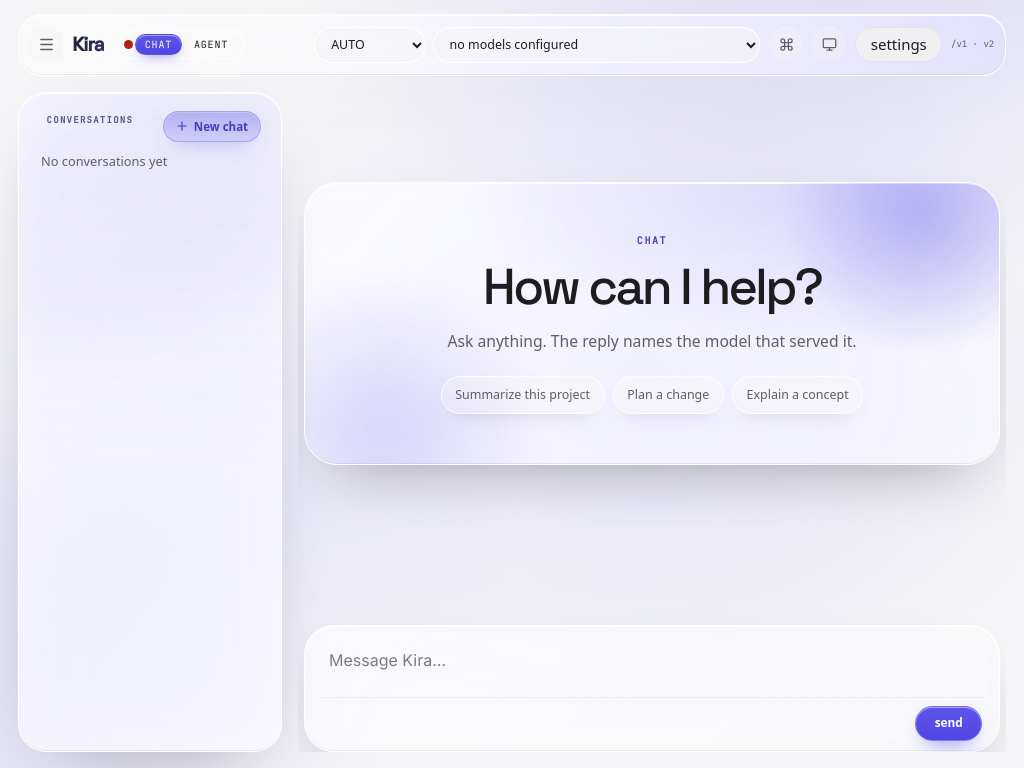
Test: App › keeps the partial answer visible when the turn is interrupted
Type "go" into the text box labelled "Message" at (652, 663), box x1=319 y1=639 x2=985 y2=687
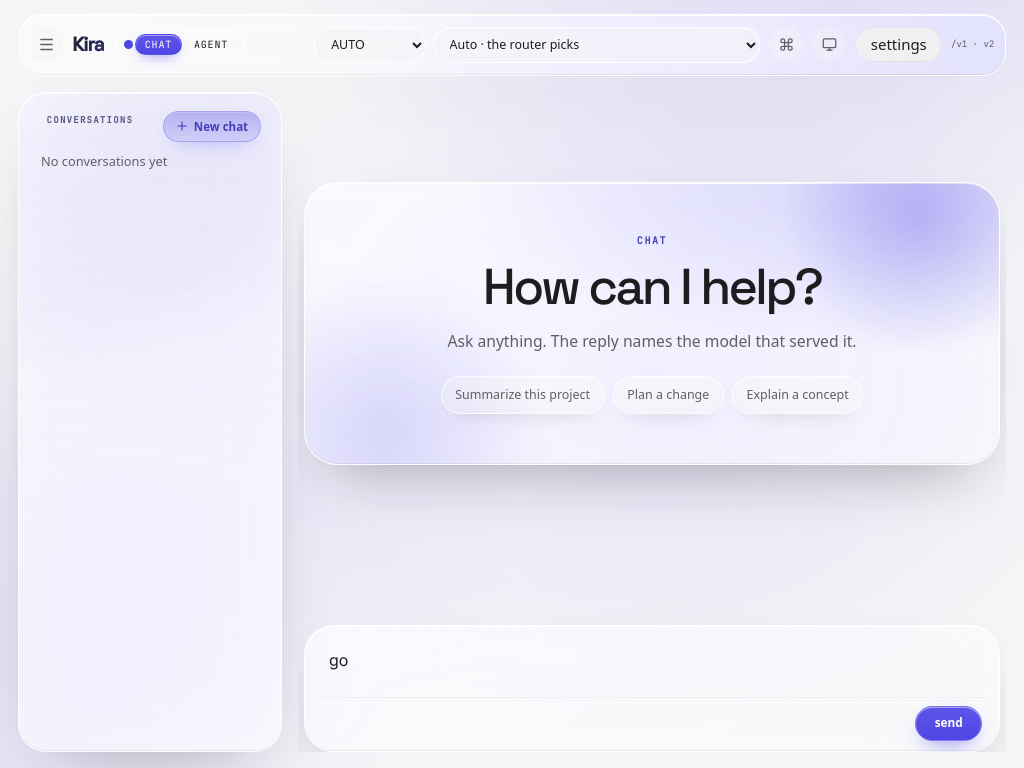
Click the button "send" at (949, 723), box x1=915 y1=706 x2=982 y2=741
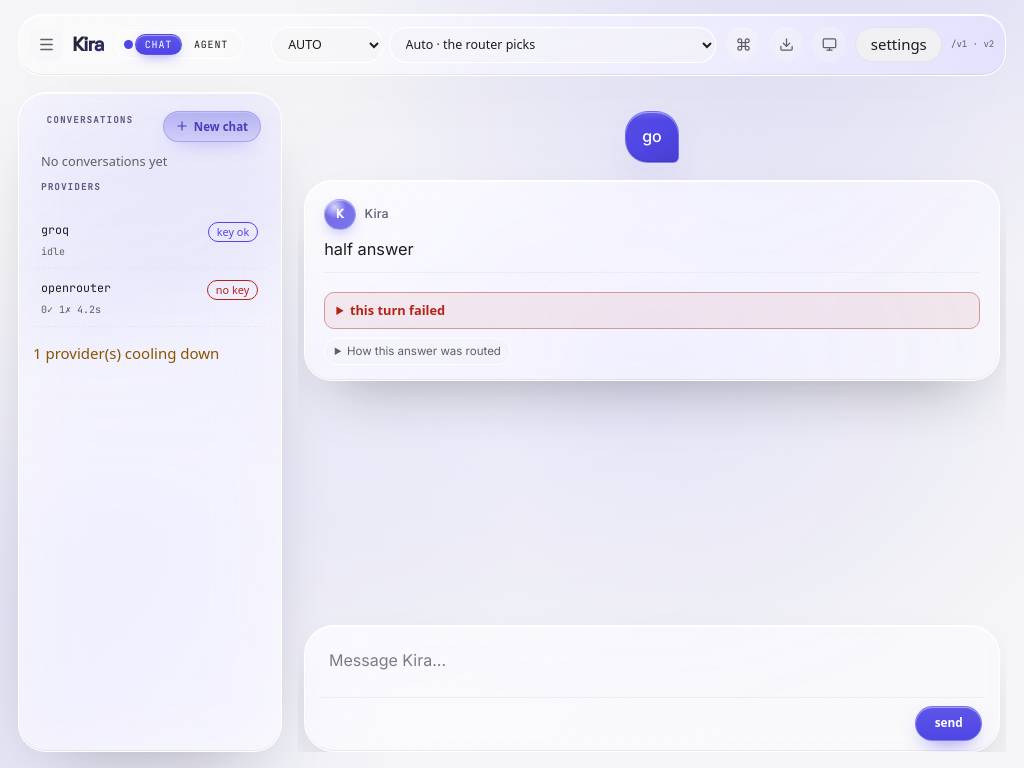
expect the text "half answer" is shown: met, box x1=324 y1=239 x2=414 y2=259
